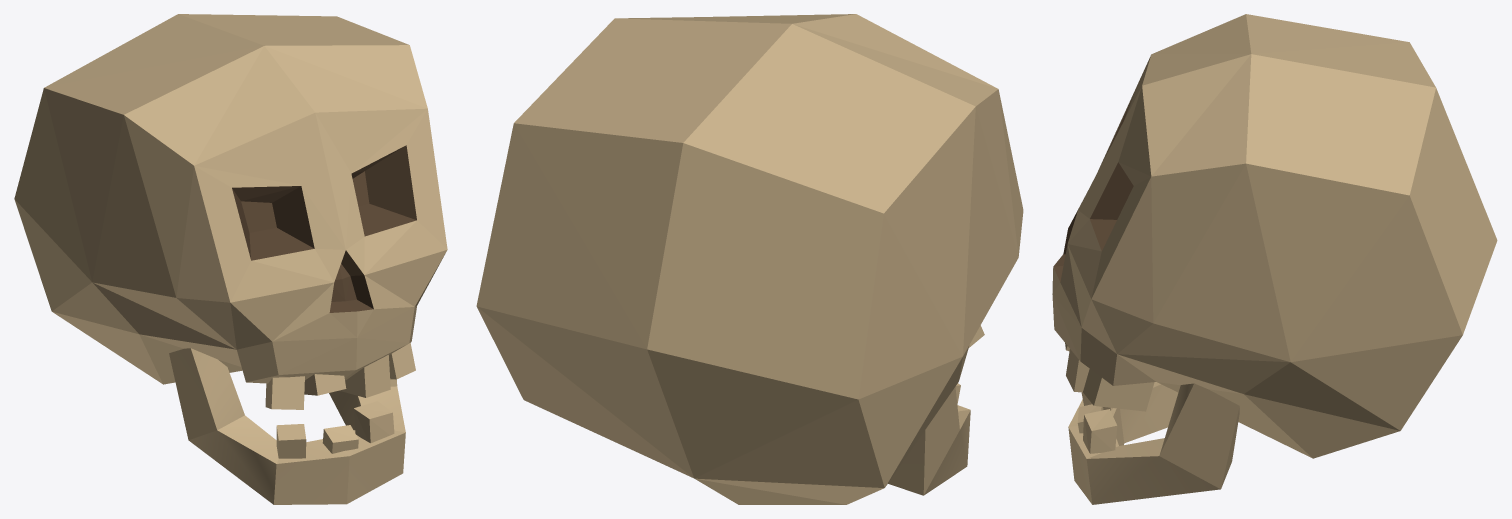
File: ZombieHead.fbx
3 renders of one model, left to right at view 1: azimuth 30°, elevation 25°; view 2: azimuth 150°, elevation 25°; view 3: azimuth 270°, elevation 25°, orthographic. The views are drawn at different scales.
Parts seen in each view (by area): view 1: ZombieHead; view 2: ZombieHead; view 3: ZombieHead.
Boxes of the visible parts, left/top/right/bottom form: ZombieHead: left=14, top=14, right=447, bottom=504; ZombieHead: left=476, top=14, right=1023, bottom=504; ZombieHead: left=1052, top=14, right=1497, bottom=504.
Size of the model in its own units: 23.31 by 28.85 by 27.27.
Materials: 1 (1 with a texture image).
